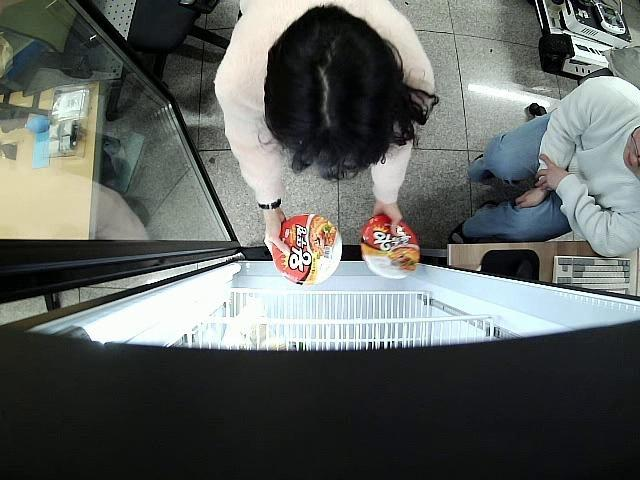10_wangTtukkeong: (273, 214, 344, 287), (362, 216, 418, 278)
